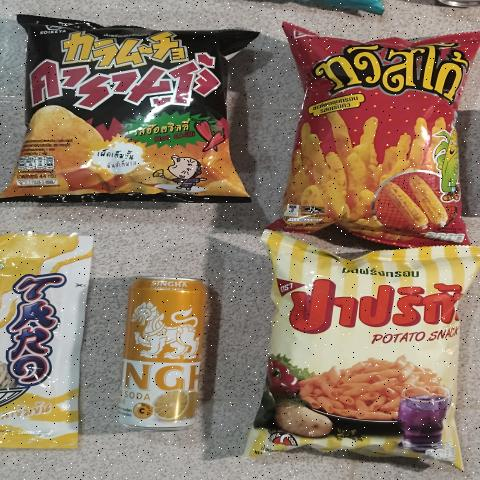karamujo: (34, 20, 246, 198)
paprika: (269, 248, 472, 472)
singha_yellow: (117, 270, 204, 430)
twisco: (296, 35, 462, 220)
